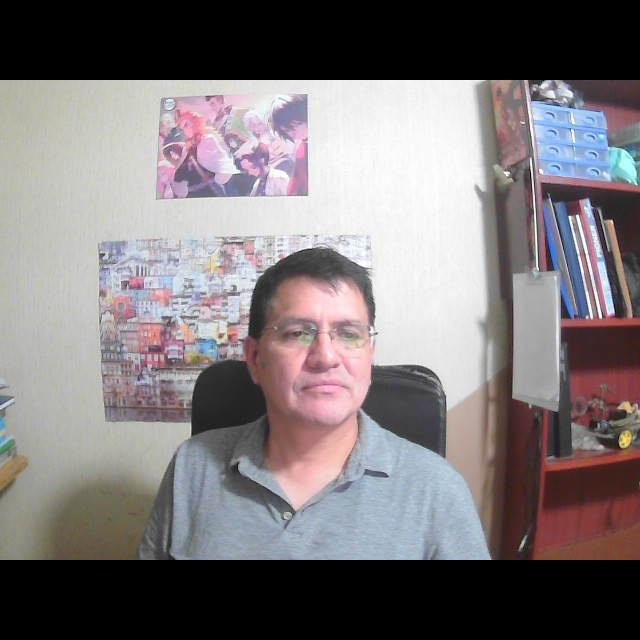cesar: (225, 230, 403, 456)
